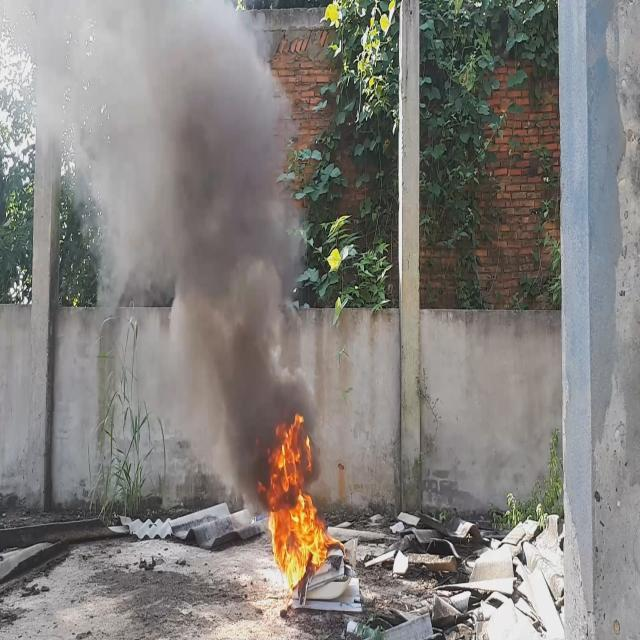Fire: (265, 410, 336, 596)
Smoke: (0, 0, 325, 512)
